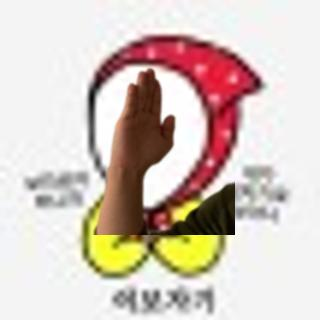RIGHT: (107, 64, 179, 182)
